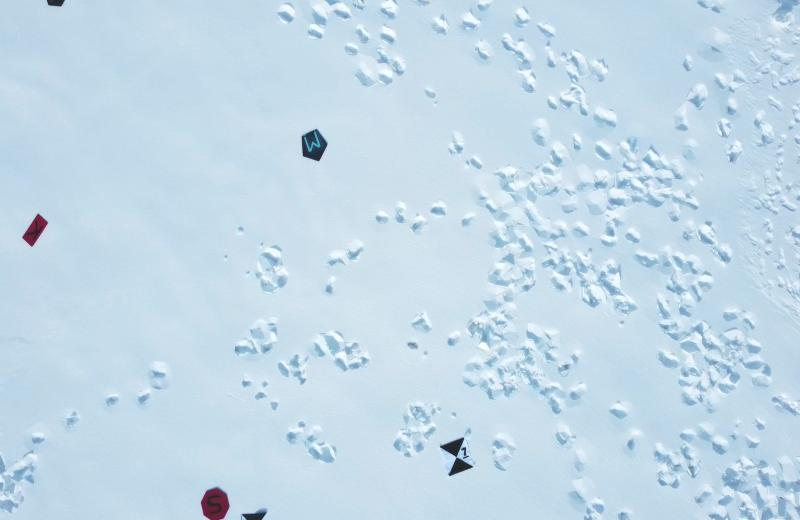Octagon: (201, 484, 231, 520)
Pentagon: (299, 127, 328, 161)
Rectangle: (20, 209, 50, 250)
